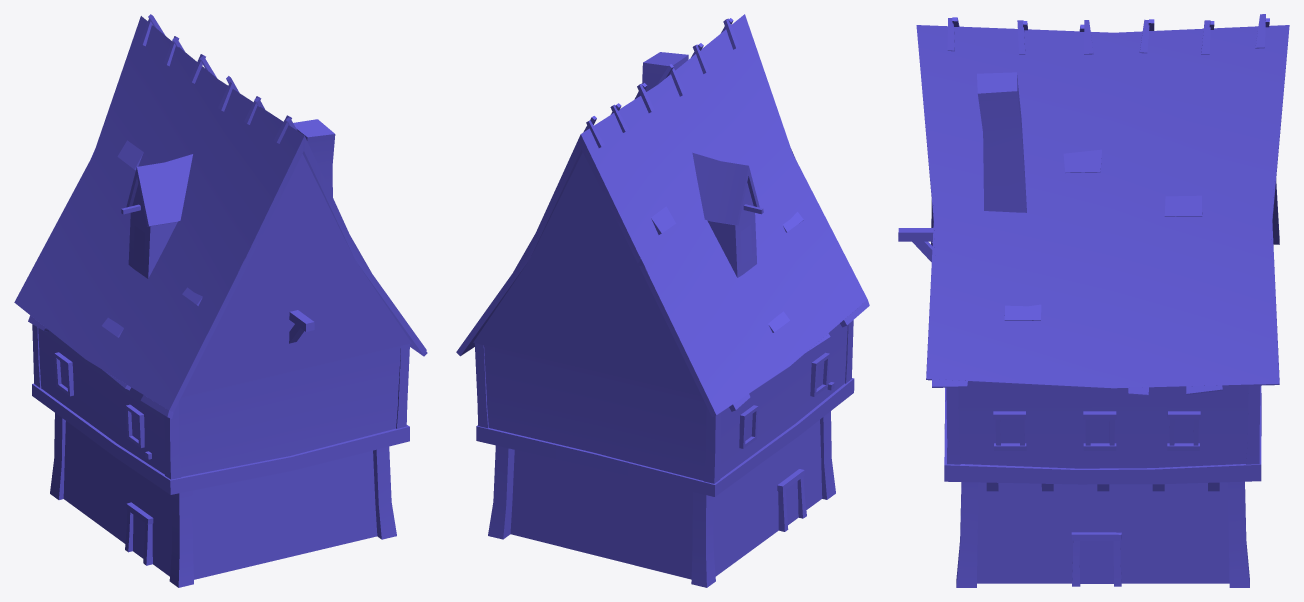
The model's file is House_1_material.fbx.
3 views of the same model, side by side, from view 1: azimuth 30°, elevation 25°; view 2: azimuth 150°, elevation 25°; view 3: azimuth 270°, elevation 25° (orthographic). The views are drawn at different scales.
Parts seen in each view (by area): view 1: City_House_Buttom_01_LOD0; view 2: City_House_Buttom_01_LOD0; view 3: City_House_Buttom_01_LOD0.
Boxes of the visible parts, bbox=[...] form: City_House_Buttom_01_LOD0: bbox=[14, 14, 427, 587]; City_House_Buttom_01_LOD0: bbox=[456, 14, 869, 587]; City_House_Buttom_01_LOD0: bbox=[898, 14, 1289, 587].
Bounding box in the file's own units: 1326 × 2151 × 1488.
